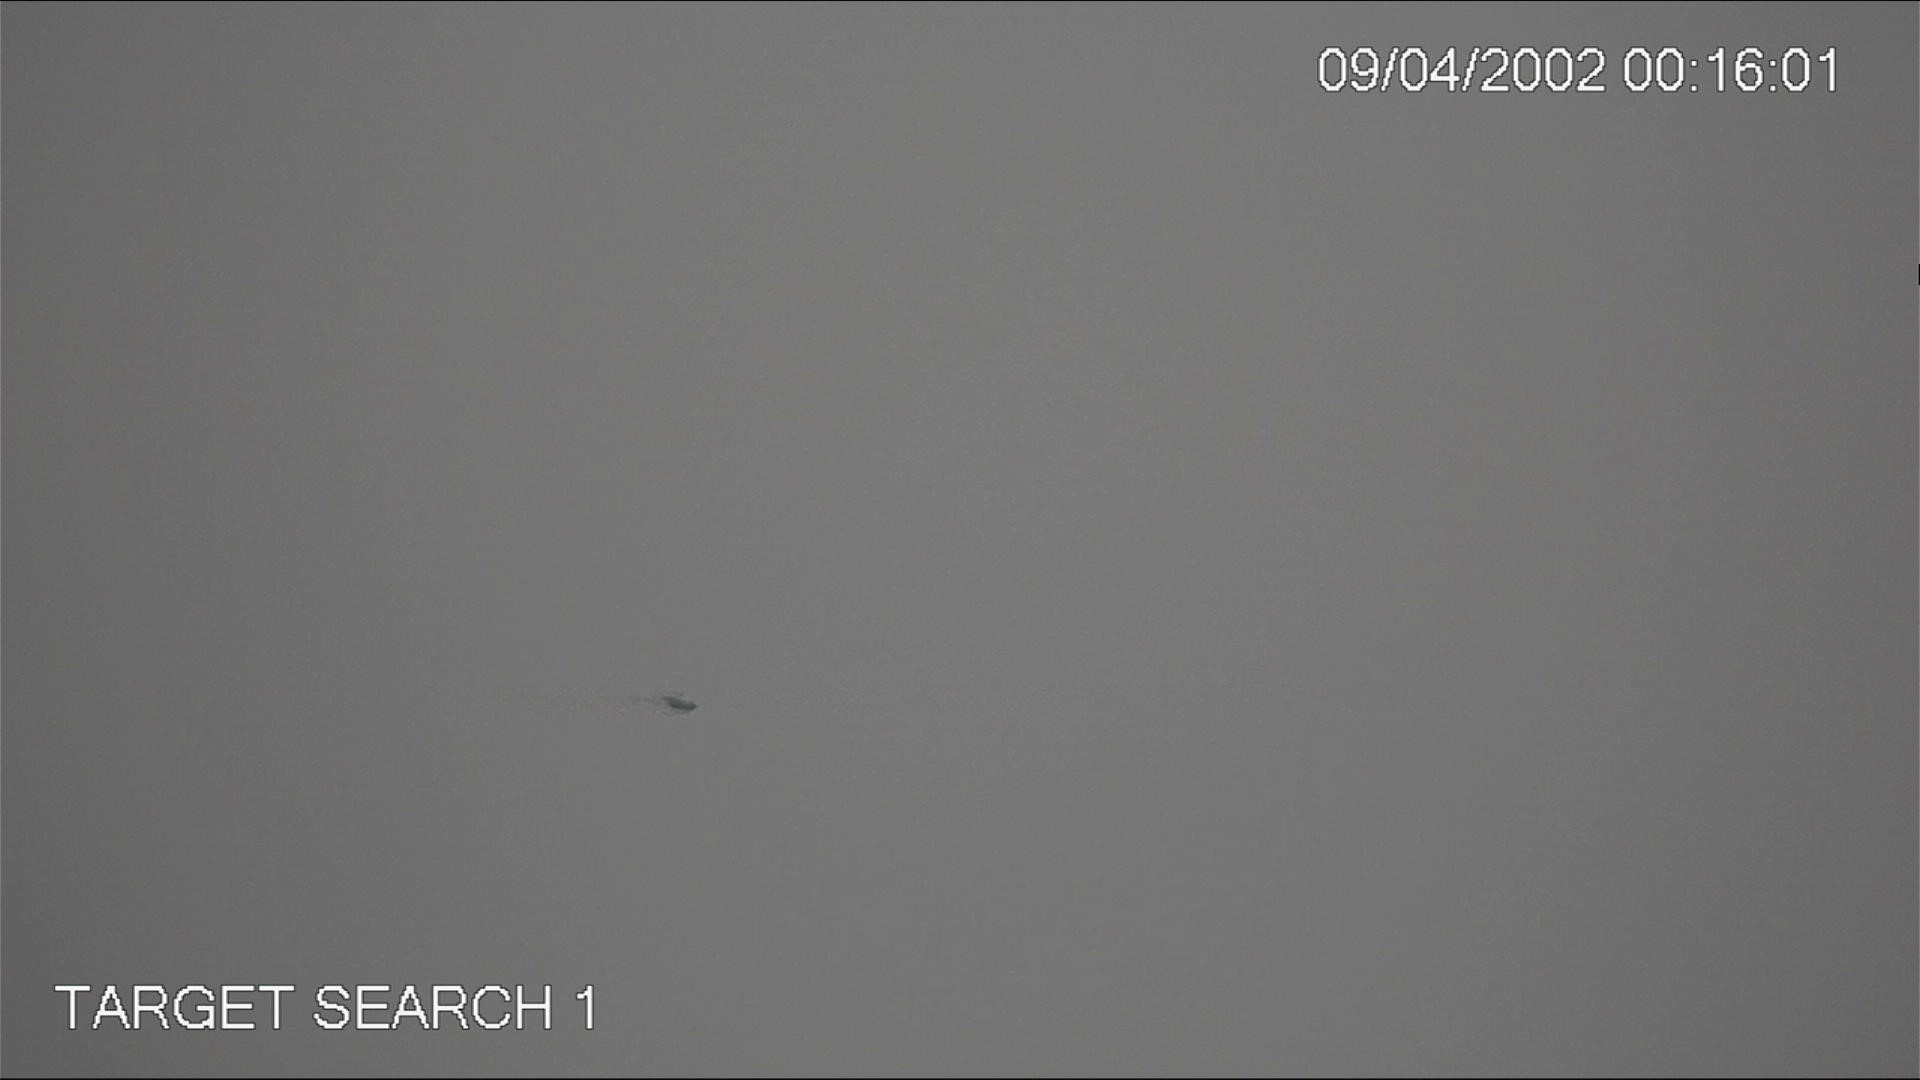SU_30: (659, 690, 698, 717)
